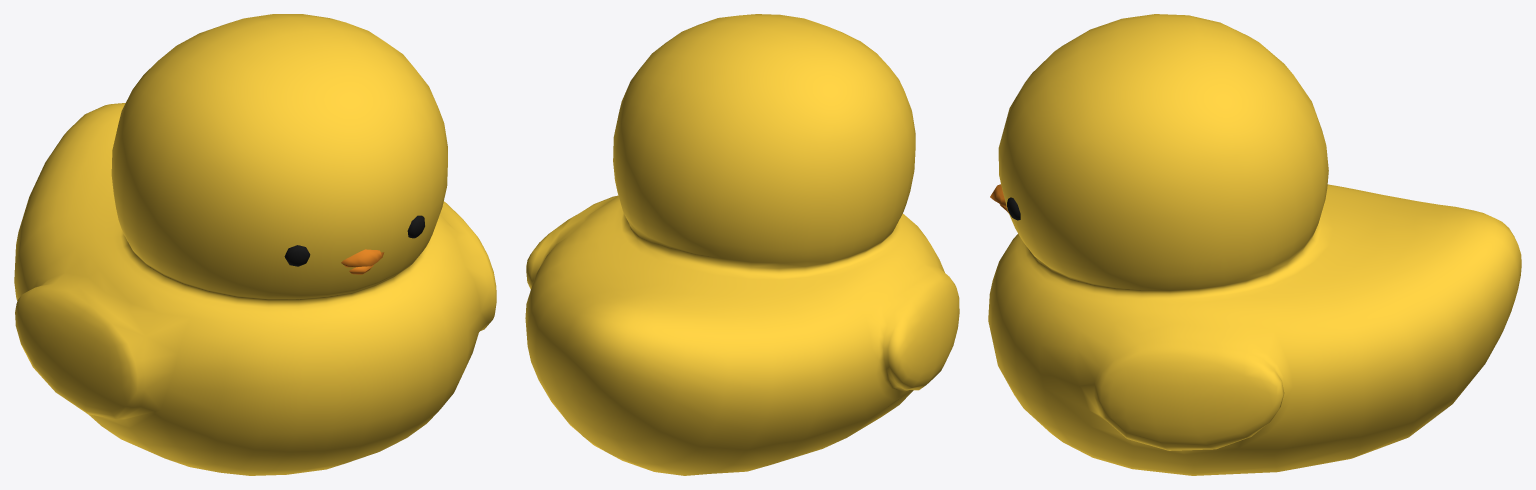
Rendered from SM_RubberDuck_LOD1.fbx.
3 views of the same model, side by side, from view 1: azimuth 30°, elevation 25°; view 2: azimuth 150°, elevation 25°; view 3: azimuth 270°, elevation 25° (orthographic). The views are drawn at different scales.
Visible parts, largest first — view 1: SM_RubberDuck_LOD1; view 2: SM_RubberDuck_LOD1; view 3: SM_RubberDuck_LOD1.
Boxes of the visible parts, x1,y1,x2,y2 form: SM_RubberDuck_LOD1: (14, 14, 496, 475); SM_RubberDuck_LOD1: (525, 14, 959, 475); SM_RubberDuck_LOD1: (988, 14, 1521, 475).
Size of the model in its own units: 15.17 by 14.54 by 17.19.
